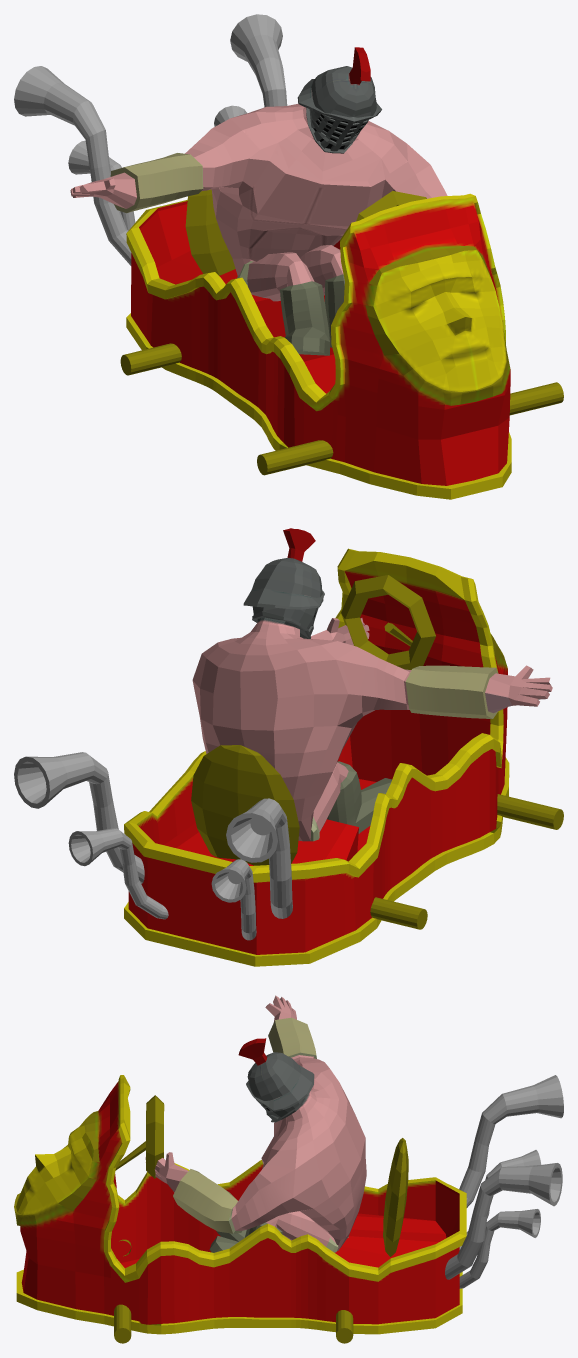
The model's file is gladiVacile_000538.obj.
The picture shows the model from 3 angles, top to bottom: view 1: azimuth 30°, elevation 25°; view 2: azimuth 150°, elevation 25°; view 3: azimuth 270°, elevation 25°; orthographic projection. The views are drawn at different scales.
Parts seen in each view (by area): view 1: GladiChasis_GladiChasisH, Gadiador_Gladiador_H.001, GladiTubos_GladiTubosH, GladiVolante_GladiVolanteH; view 2: GladiChasis_GladiChasisH, Gadiador_Gladiador_H.001, GladiVolante_GladiVolanteH, GladiTubos_GladiTubosH; view 3: GladiChasis_GladiChasisH, Gadiador_Gladiador_H.001, GladiTubos_GladiTubosH, GladiVolante_GladiVolanteH.
Part boxes in pixels (box(x1,y1,x2,y2)): GladiChasis_GladiChasisH: box(126, 193, 511, 499); Gadiador_Gladiador_H.001: box(70, 47, 447, 355); GladiTubos_GladiTubosH: box(14, 14, 287, 265); GladiVolante_GladiVolanteH: box(120, 189, 563, 475); GladiChasis_GladiChasisH: box(124, 548, 509, 966); Gadiador_Gladiador_H.001: box(192, 528, 552, 841); GladiVolante_GladiVolanteH: box(191, 575, 563, 929); GladiTubos_GladiTubosH: box(14, 752, 292, 940); GladiChasis_GladiChasisH: box(14, 1075, 466, 1334); Gadiador_Gladiador_H.001: box(145, 995, 366, 1252); GladiTubos_GladiTubosH: box(445, 1075, 563, 1288); GladiVolante_GladiVolanteH: box(114, 1095, 408, 1343).
Bounding box in the file's own units: 7.13 × 5.74 × 10.78.
